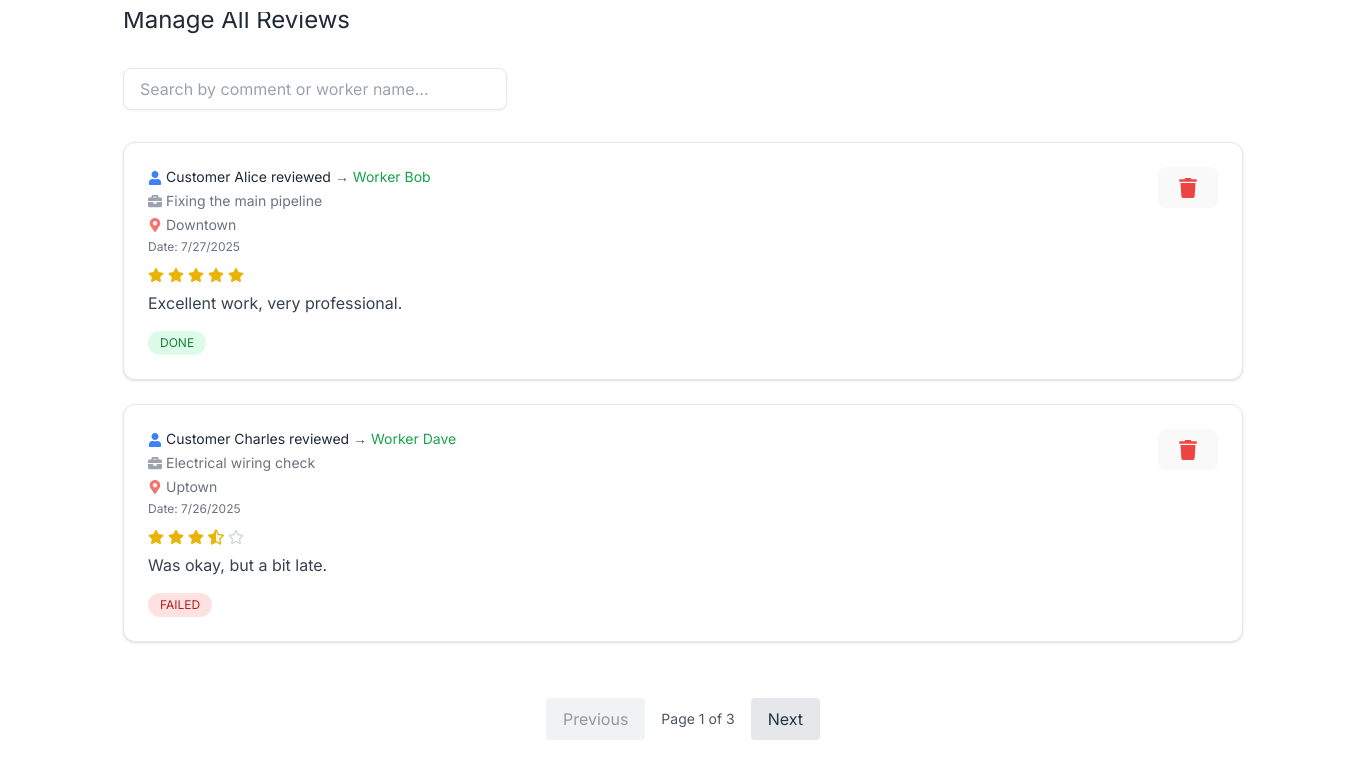
Scenario: AdminReviewManagement › handles pagination correctly
(page scrolled)
Expected: the text "Page 1 of 3" is shown, [661,709,735,729]
Expected: the button "Previous" is disabled, [546,698,645,740]
// Go to Page 2
What coordinates should you click on to do the following:
click the button "Next"
I would click on:
 (785, 719)
Its box is [751,698,820,740].
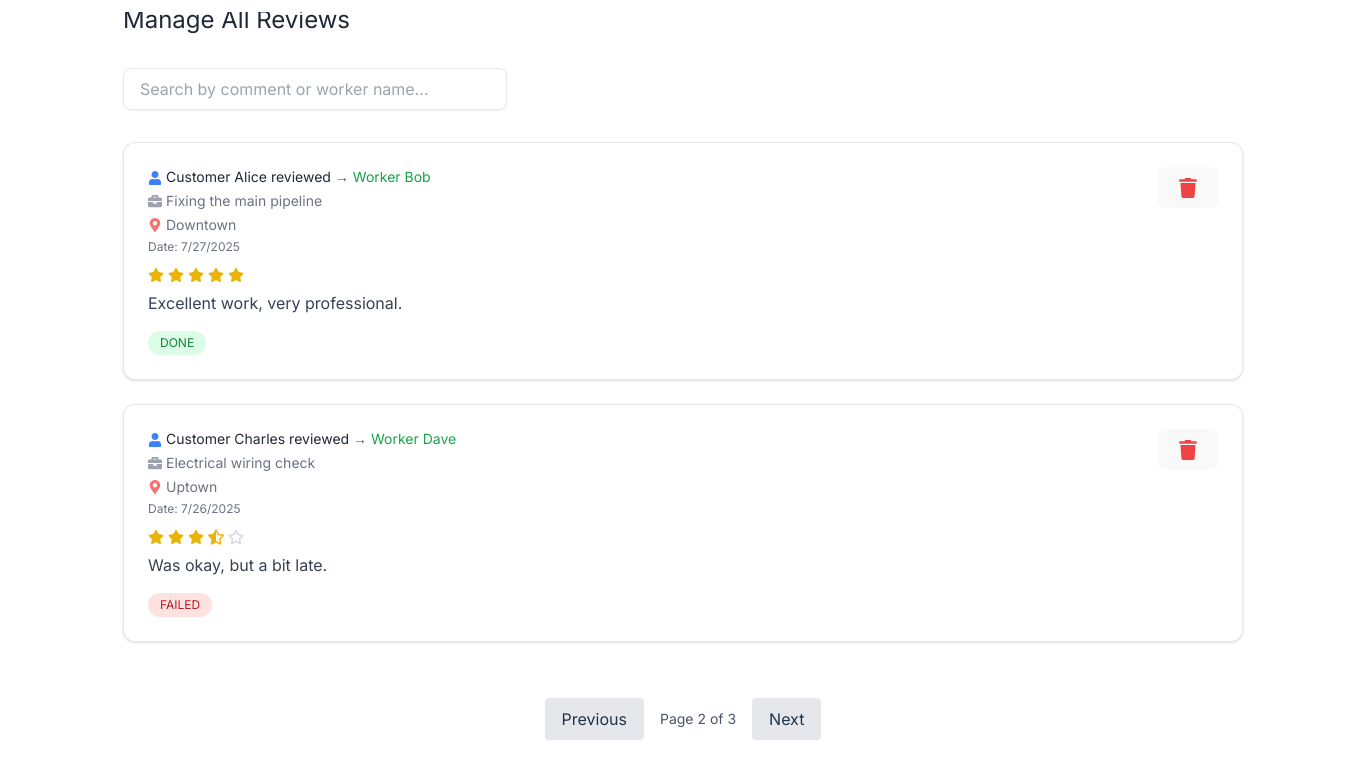
Result: the text "Page 2 of 3" is shown at [660,709,736,729]
Result: the button "Previous" is enabled at [545,698,644,740]
// Go to Page 3
What coordinates should you click on to do the following:
click the button "Next"
I would click on:
 (787, 719)
Its box is [752,698,821,740].
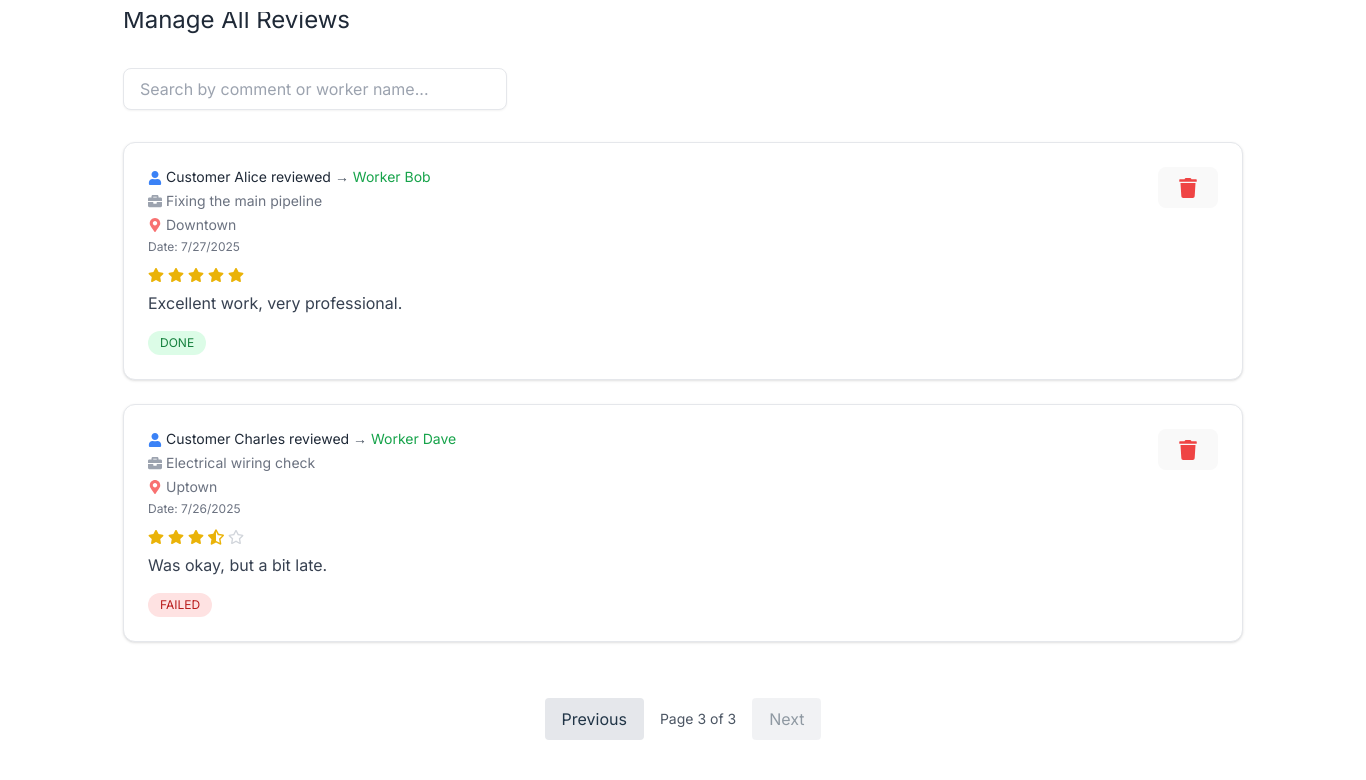
Result: the button "Previous" is enabled at [544,698,644,740]
Result: the text "Page 3 of 3" is shown at [660,709,736,729]
Result: the button "Next" is disabled at [752,698,822,740]
